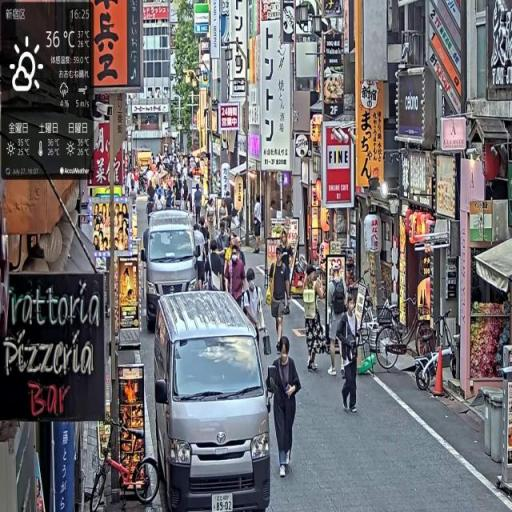person: (267, 338, 302, 478), (337, 295, 359, 414), (328, 263, 348, 377), (305, 267, 326, 372), (270, 247, 291, 341), (243, 269, 265, 351), (225, 247, 247, 308), (206, 241, 225, 291), (195, 225, 206, 291), (254, 196, 263, 255), (282, 231, 295, 271), (217, 223, 231, 259), (207, 199, 217, 242), (195, 184, 204, 224), (226, 192, 234, 232), (271, 200, 278, 220)
